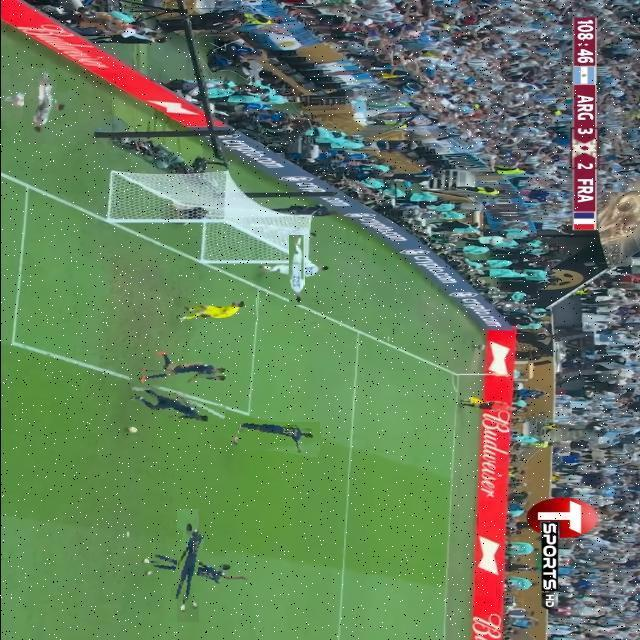ball: (121, 425, 139, 437)
goalkeeper: (173, 298, 257, 322)
player: (150, 528, 225, 603), (104, 391, 224, 423), (129, 357, 235, 388), (11, 78, 67, 134), (236, 419, 320, 454), (274, 248, 317, 291)
